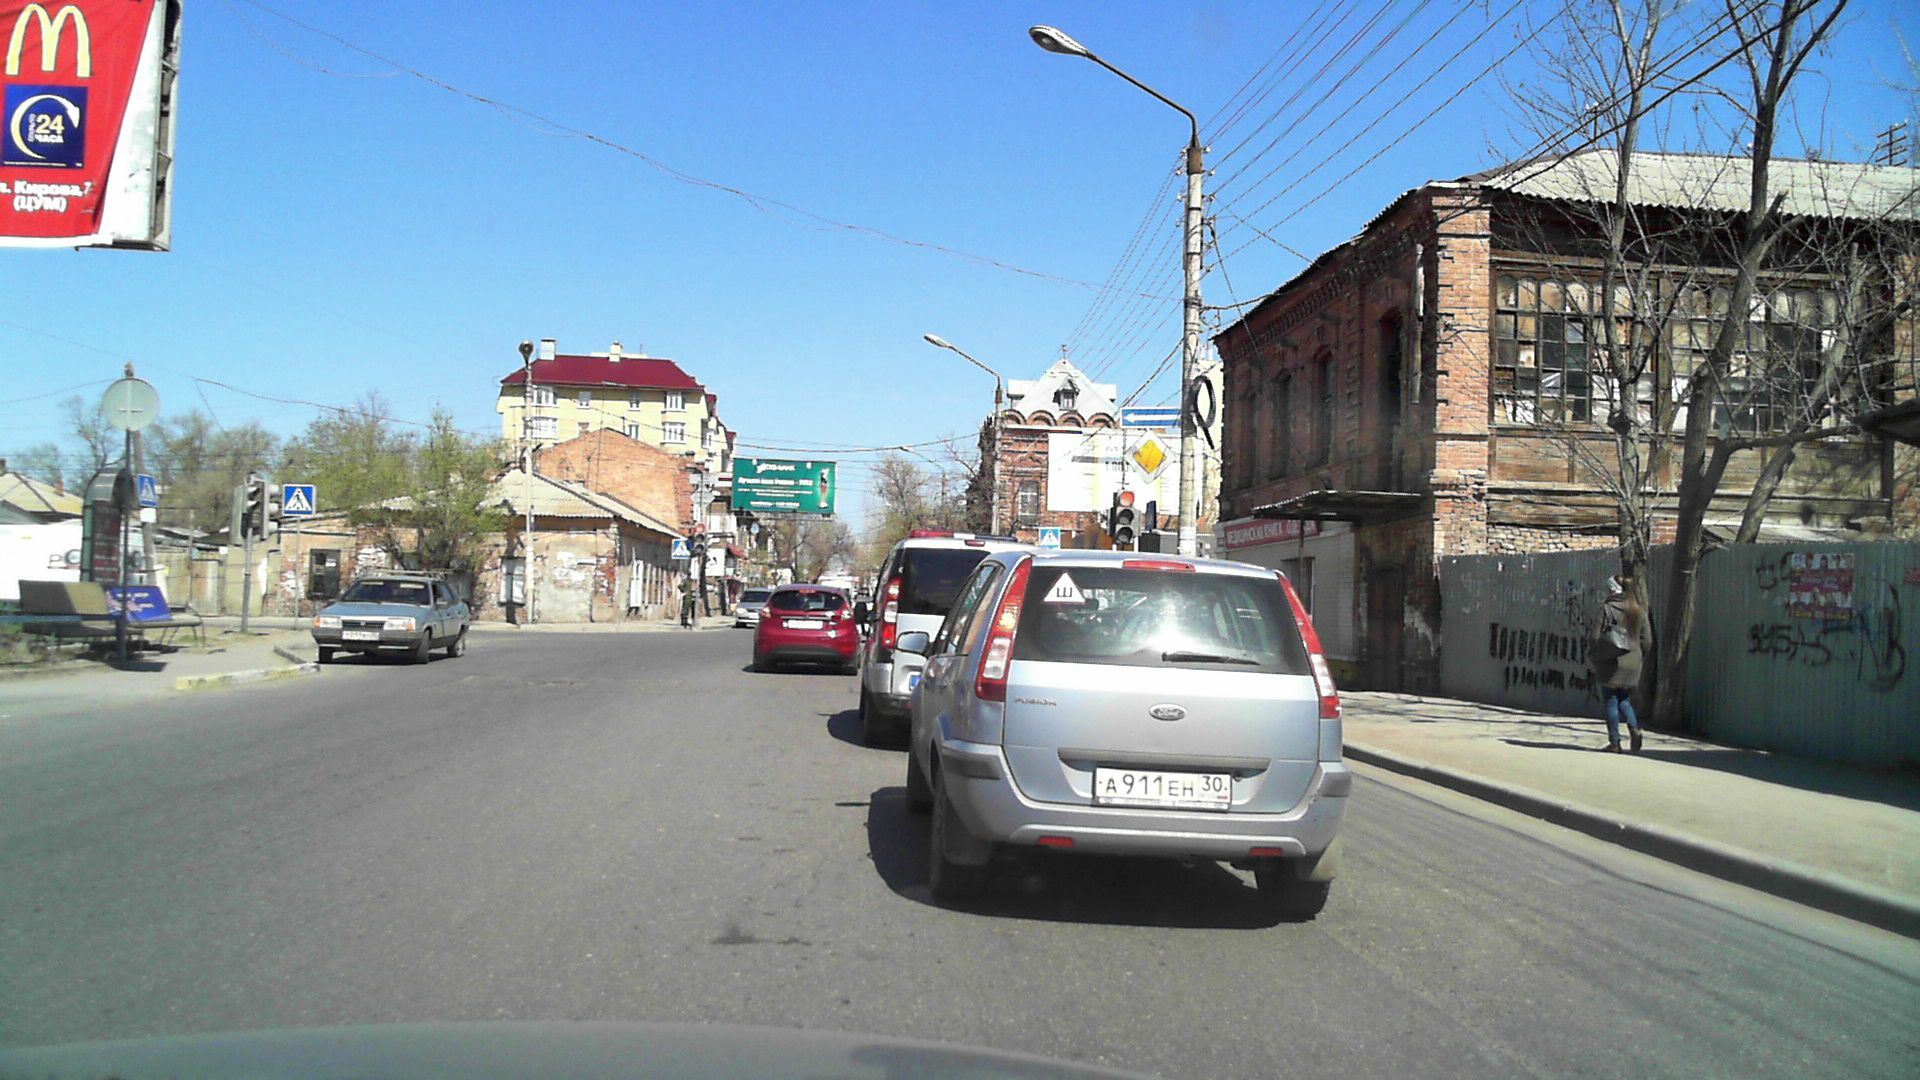One-Way Traffic: (1120, 407, 1182, 429)
